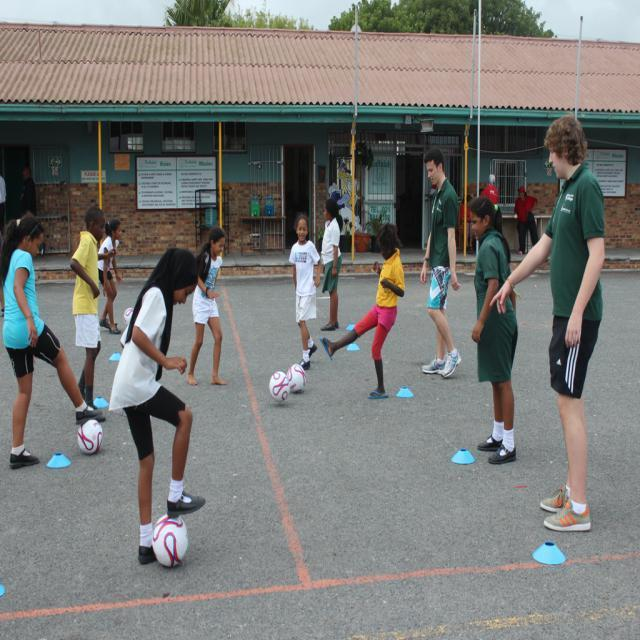football: (145, 509, 197, 581), (68, 405, 114, 464)
